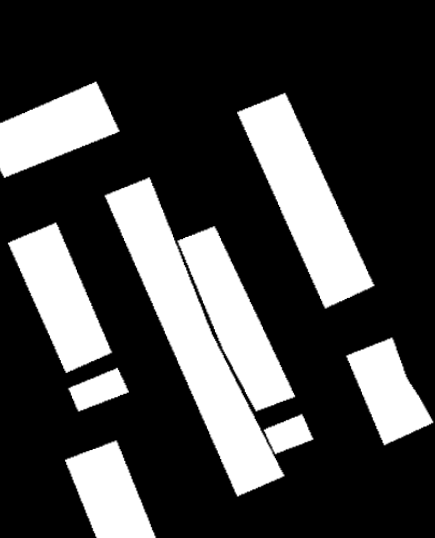parkingspot: (105, 177, 313, 496), (237, 93, 374, 309), (177, 226, 295, 411), (8, 223, 112, 373), (0, 82, 120, 178), (346, 338, 433, 445), (65, 440, 156, 538), (68, 368, 129, 411), (271, 449, 274, 452)
